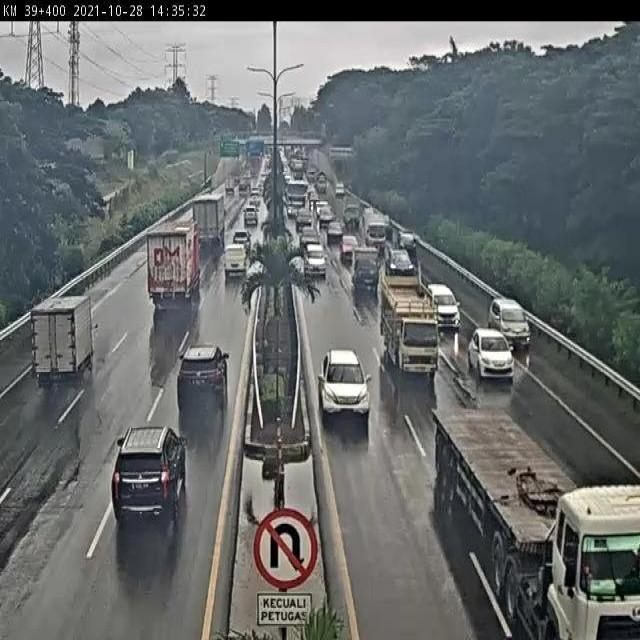big truck: (435, 409, 640, 640), (140, 225, 199, 311), (192, 193, 227, 248), (285, 180, 307, 216)
car: (110, 429, 185, 522), (178, 348, 229, 416), (321, 348, 370, 417), (468, 331, 509, 377), (493, 297, 530, 344), (426, 286, 458, 326), (346, 237, 371, 275), (222, 244, 247, 275), (389, 224, 413, 253), (381, 243, 407, 268), (304, 245, 325, 272), (341, 233, 359, 263), (231, 231, 252, 252), (243, 206, 260, 226), (296, 212, 312, 229), (302, 228, 318, 245), (321, 211, 334, 229), (328, 223, 341, 241), (316, 199, 327, 213)
small truck: (31, 295, 102, 384), (379, 277, 438, 376), (365, 209, 389, 244), (343, 199, 362, 228)
